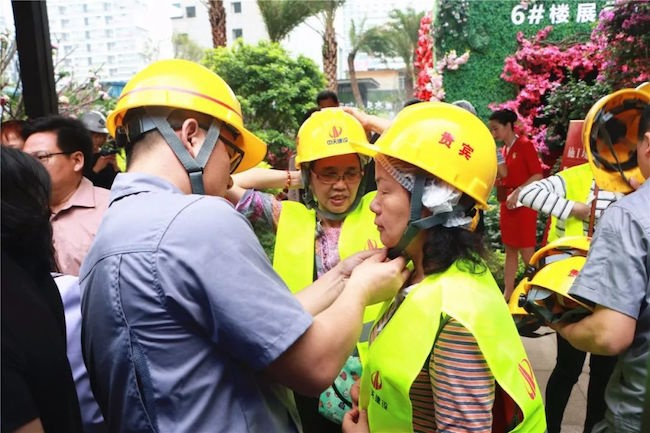none: (20, 108, 89, 198), (486, 107, 517, 143)
yellow: (107, 58, 248, 204), (364, 101, 497, 254), (289, 105, 373, 213)
